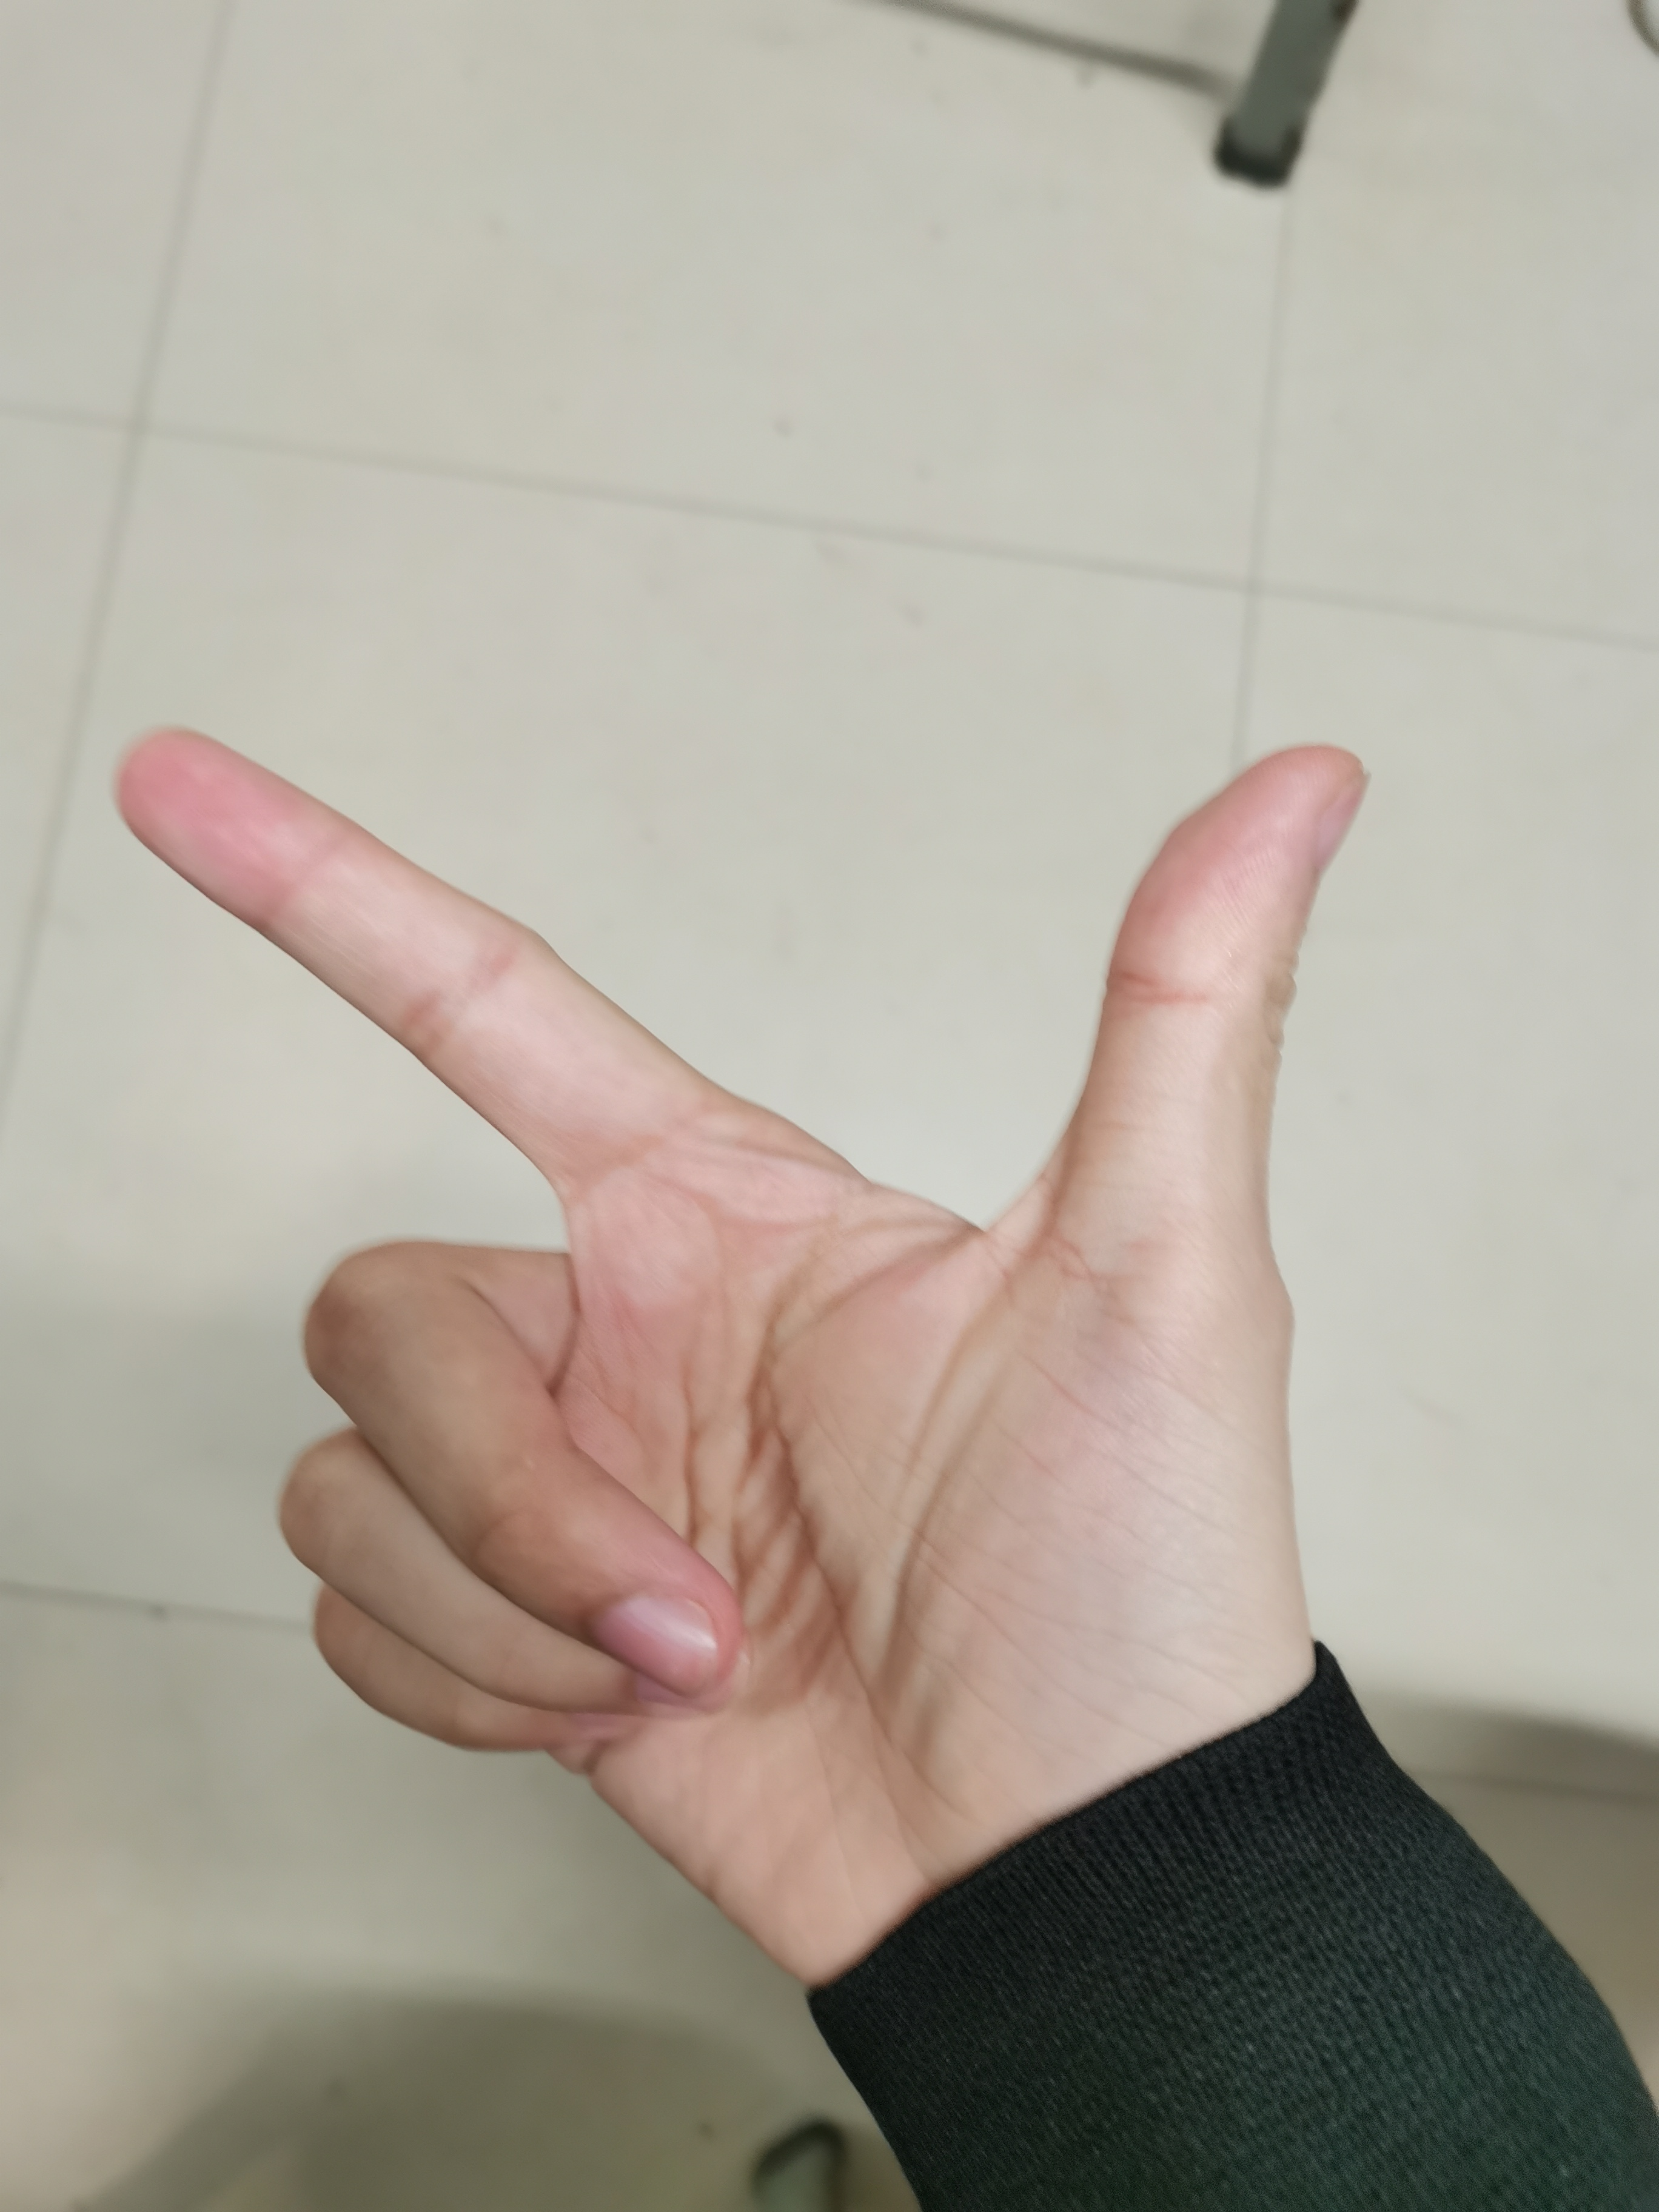no-phone: (78, 678, 1382, 1921)
